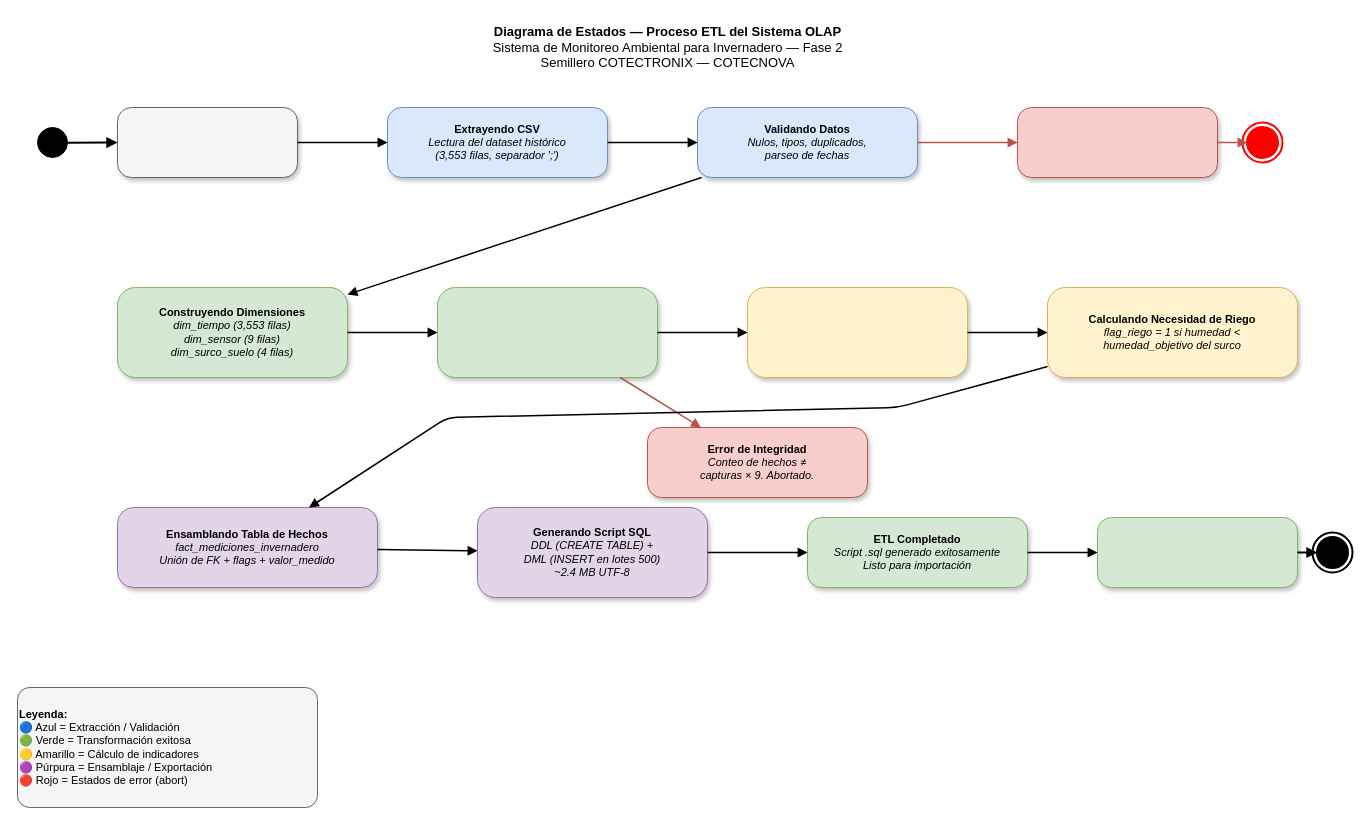
The diagram is 1371 pixels wide and 825 high, and some of its shapes have lost their labels. The centre of each missing label's shape, as x and y in pixels:
BD OLAP Importada 4 tablas con relaciones FK en MySQL/MariaDB: the point at 1198,553
Calculando Anomalías flag_anomalia = 1 si valor fuera de rango de alerta: the point at 858,333
Error de Validación Datos corruptos o faltantes Proceso abortado: the point at 1118,143
Inactivo Esperando ejecución del comando ETL: the point at 208,143
Pivoteando Mediciones Unpivot/Melt vertical 3,553 × 9 = 31,977 hechos: the point at 548,333
